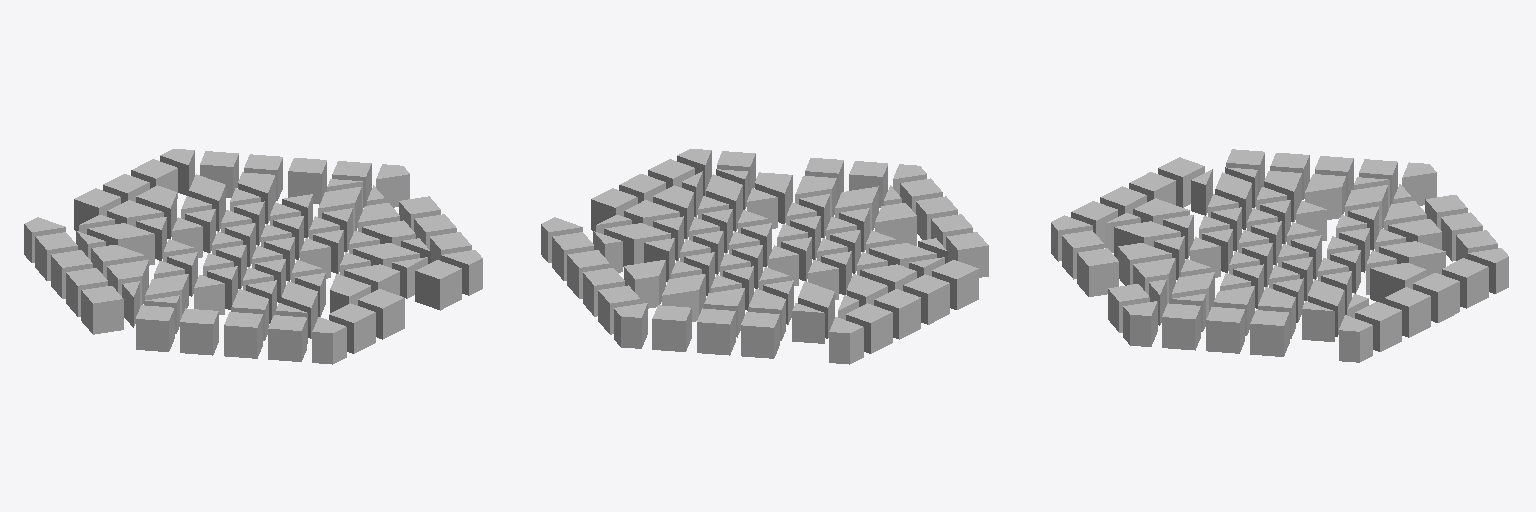
File: hex1.obj
3 renders of one model, left to right at view 1: azimuth 30°, elevation 25°; view 2: azimuth 150°, elevation 25°; view 3: azimuth 270°, elevation 25°, orthographic.
Visible parts, largest first — view 1: Hexagon.003; view 2: Hexagon.003; view 3: Hexagon.003.
Boxes of the visible parts, x1,y1,x2,y2 form: Hexagon.003: [24, 149, 482, 364]; Hexagon.003: [541, 149, 988, 364]; Hexagon.003: [1051, 149, 1508, 362].
Size of the model in its own units: 2.36 by 0.1875 by 2.51.